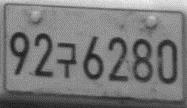0: (157, 36, 177, 84)
2: (107, 36, 130, 83), (33, 32, 55, 78)
6: (82, 35, 104, 81)
8: (131, 36, 153, 83)
9: (8, 31, 30, 77)
구: (54, 40, 78, 80)
